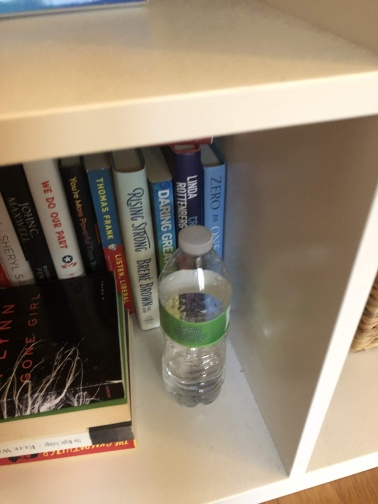bottle: (156, 224, 235, 409)
